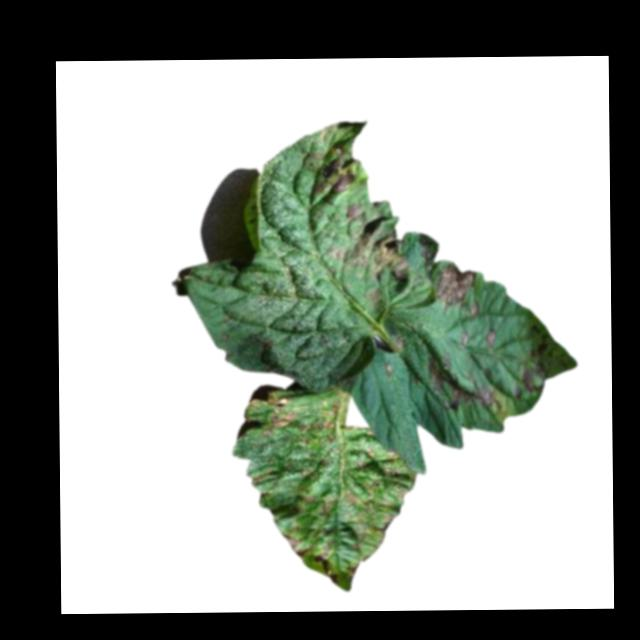Early_blight: (333, 201, 410, 279), (425, 345, 499, 411), (303, 142, 356, 194), (436, 261, 473, 308), (265, 392, 294, 429), (282, 529, 313, 559), (318, 544, 340, 586), (514, 362, 535, 399), (297, 417, 336, 433)
